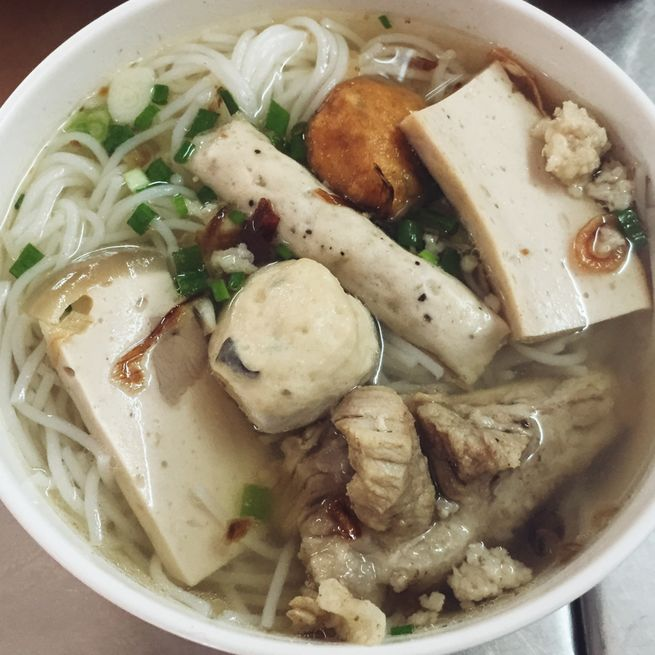chamoc: (417, 66, 655, 340), (208, 263, 380, 432)
pork: (276, 381, 591, 592)
